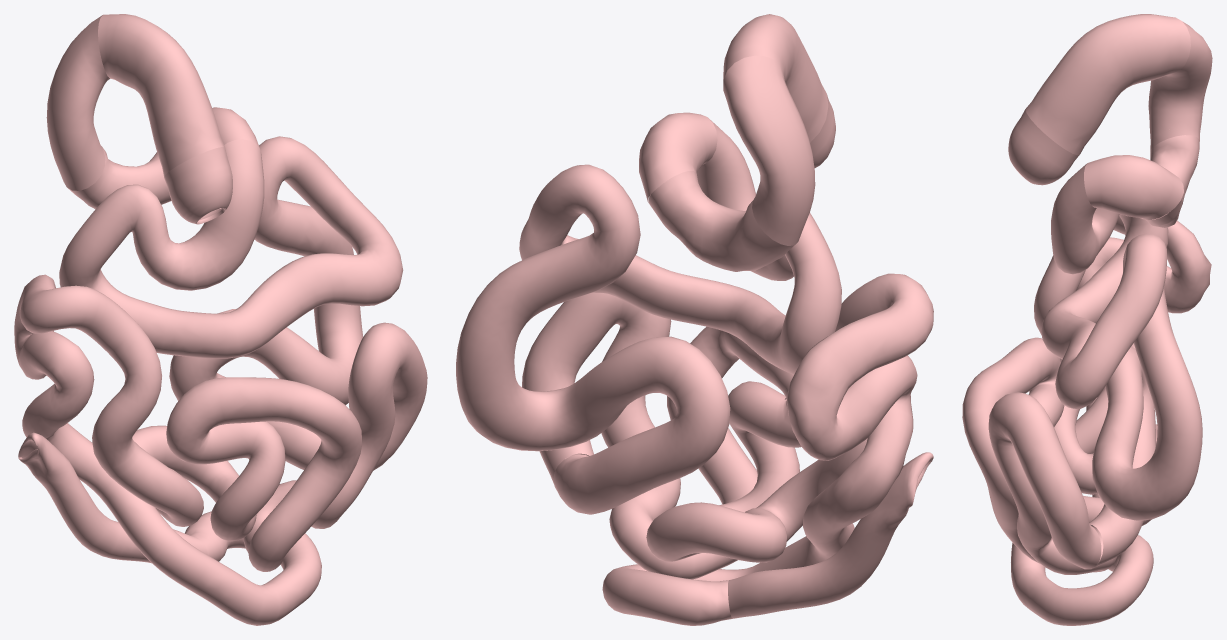
The model's file is gut-small.glb.
3 views of the same model, side by side, from view 1: azimuth 30°, elevation 25°; view 2: azimuth 150°, elevation 25°; view 3: azimuth 270°, elevation 25° (orthographic). The views are drawn at different scales.
Visible parts, largest first — view 1: VH_F_duodenum_superior; view 2: VH_F_duodenum_superior; view 3: VH_F_duodenum_superior.
Part boxes in pixels (x1,y1,x2,y2): VH_F_duodenum_superior: (14,14,427,625); VH_F_duodenum_superior: (456,14,933,625); VH_F_duodenum_superior: (962,14,1212,625).
Size of the model in its own units: 0.1472 by 0.2172 by 0.0888.
